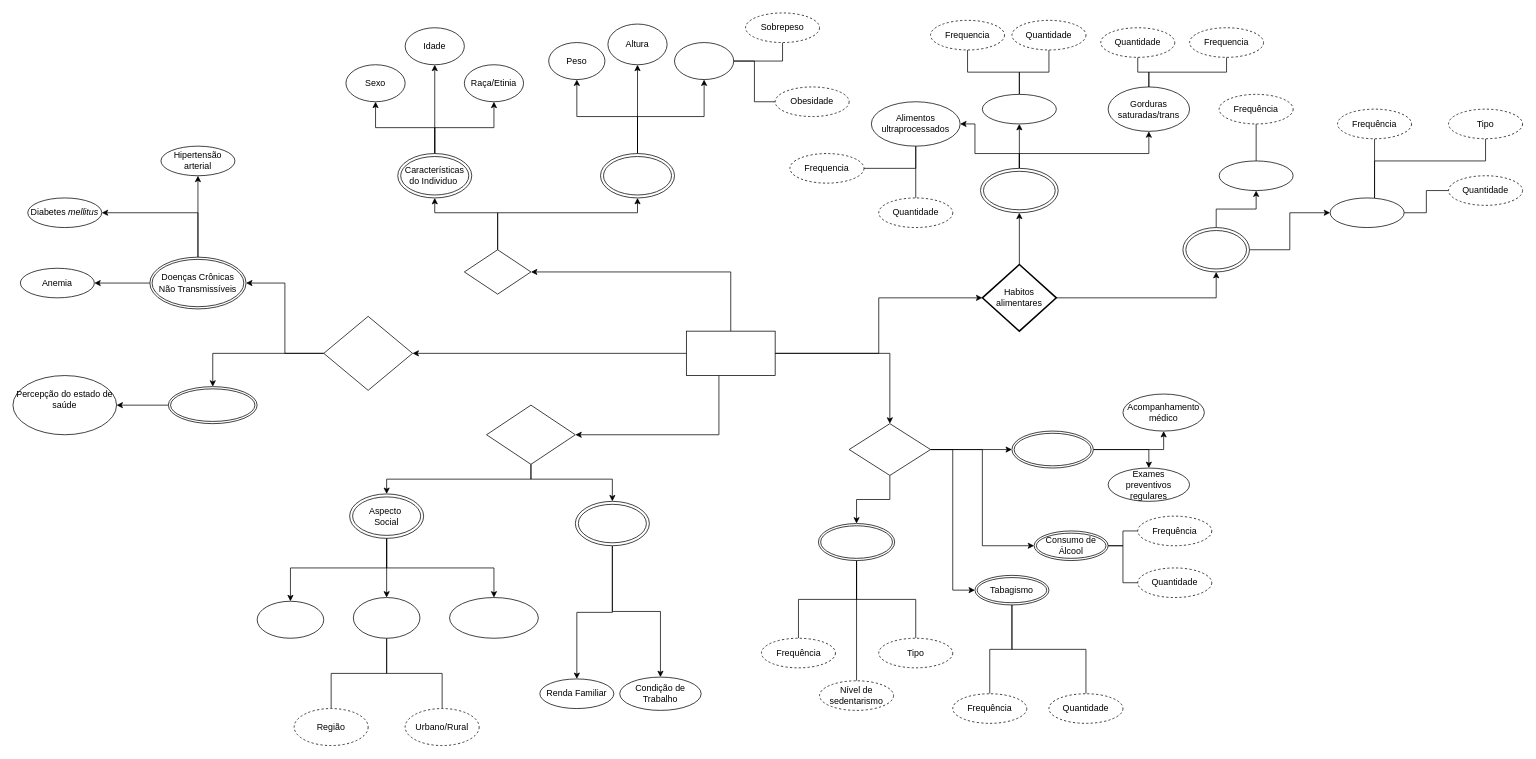
This 1536x759 diagram has some shape labels left out. The shapes that lost their labels are listed below. From the top down, each one's centre as x and y in pixels, then its label:
At (704,61): "IMC".
At (1019,109): "Fibras".
At (637,175): "Antropometria".
At (1019,190): "Consumo de Alimentos".
At (1255,175): "Bebidas Açucaradas".
At (1366,212): "Bebidas Alcoolicas".
At (1215,249): "Consumo de Bebidas".
At (497,271): "Demografia".
At (368,353): "Condições de Saúde".
At (730,353): "Colesterol Alto".
At (212,405): "Autoavaliação de Saúde".
At (530,434): "Caracteristica Socioeconomica".
At (889,449): "Estilo de Vida".
At (1052,449): "Cuidados em Saúde".
At (612,523): "Aspecto Econômico".
At (856,542): "Atividades Físicas".
At (290,619): "Escolaridade".
At (386,617): "Local de Residencia".
At (493,617): "Acesso a serviço de saúde".
